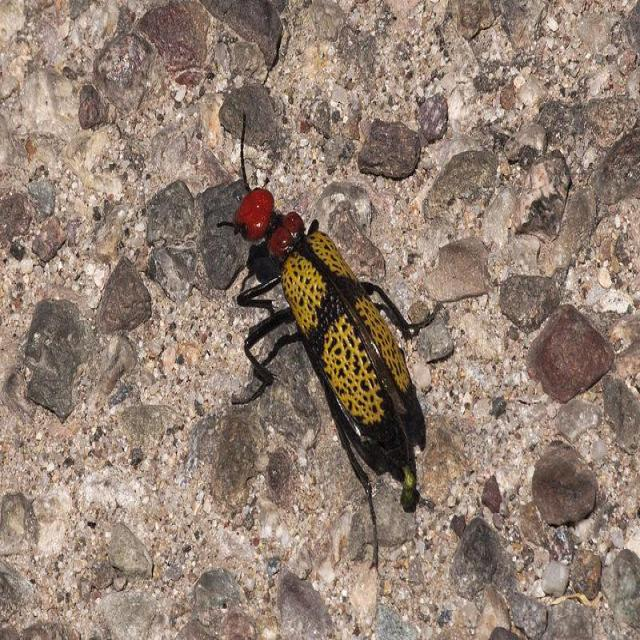BlisterBeetle-Adult-: (199, 93, 448, 576)
